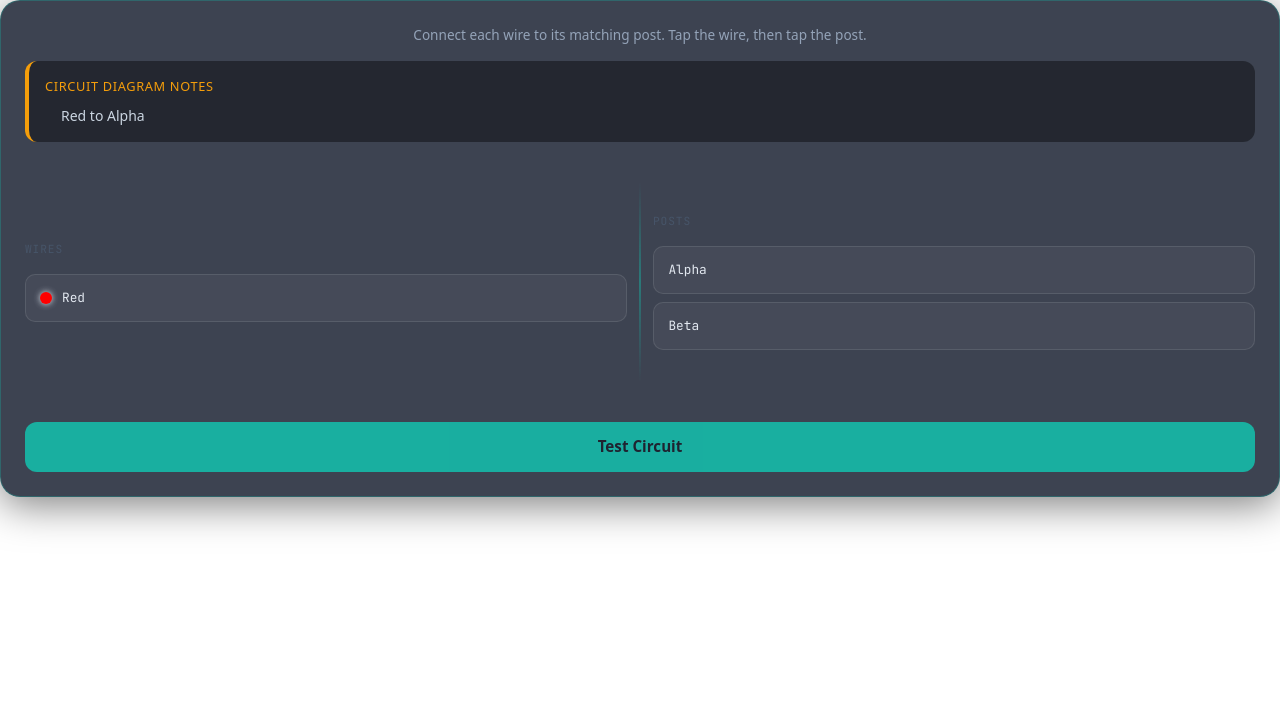
Scenario: FuseBoxPuzzle › connects wire to post on click
Note: Click wire
Click the button with aria-label "Red wire" at (46,298), box x1=25 y1=274 x2=627 y2=322
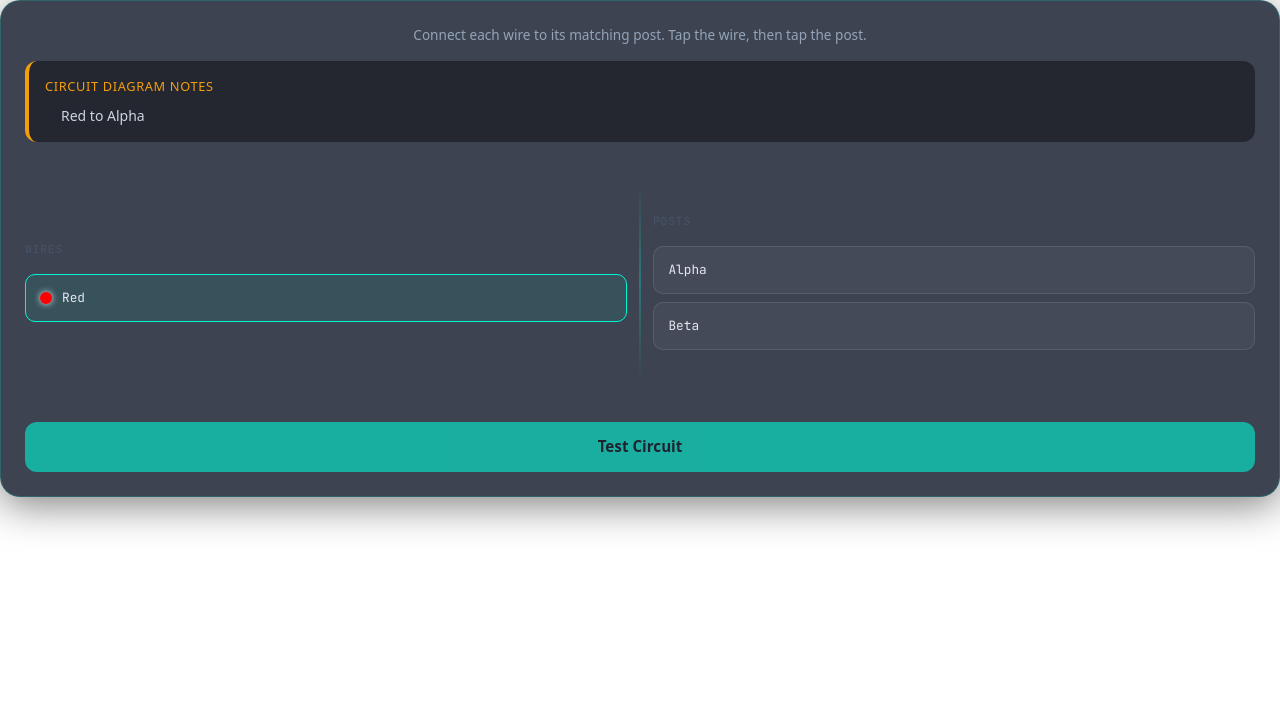
Note: Click post
Click the button with aria-label "Post Alpha — empty" at (688,270), box x1=653 y1=246 x2=1255 y2=294
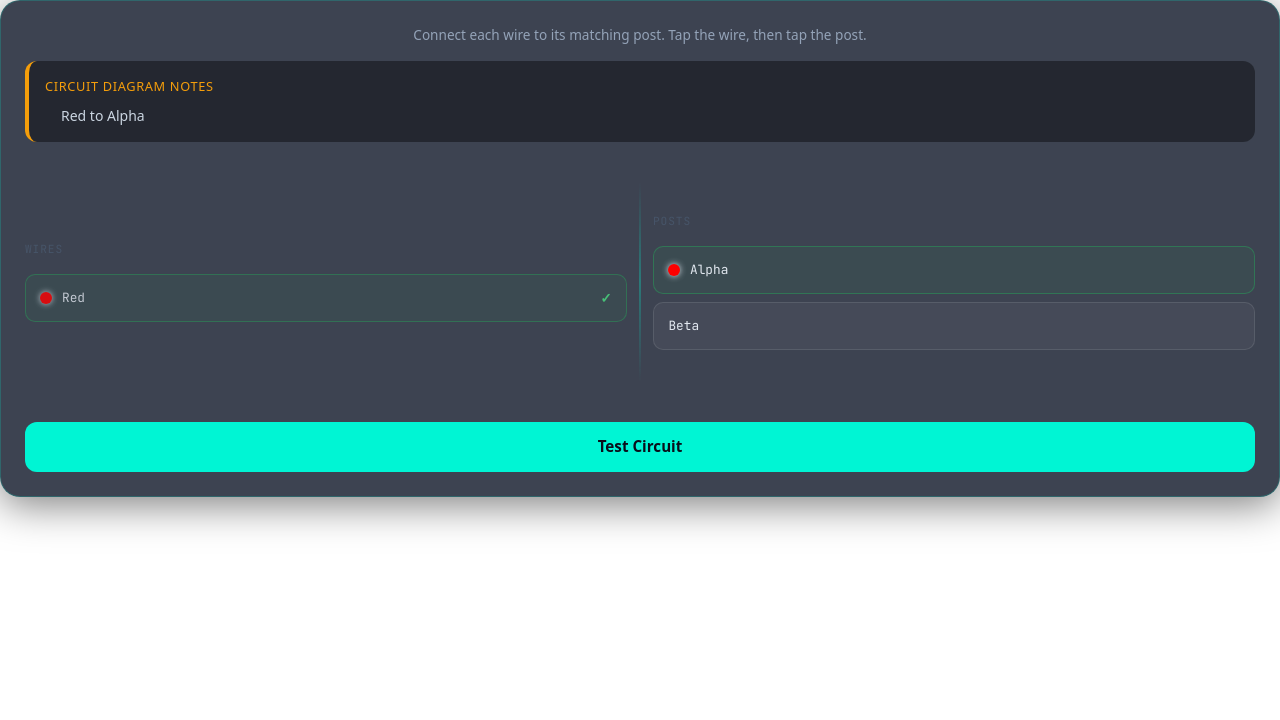
Now the button with aria-label "Red wire — connected to post p1" is shown, box x1=25 y1=274 x2=627 y2=322
